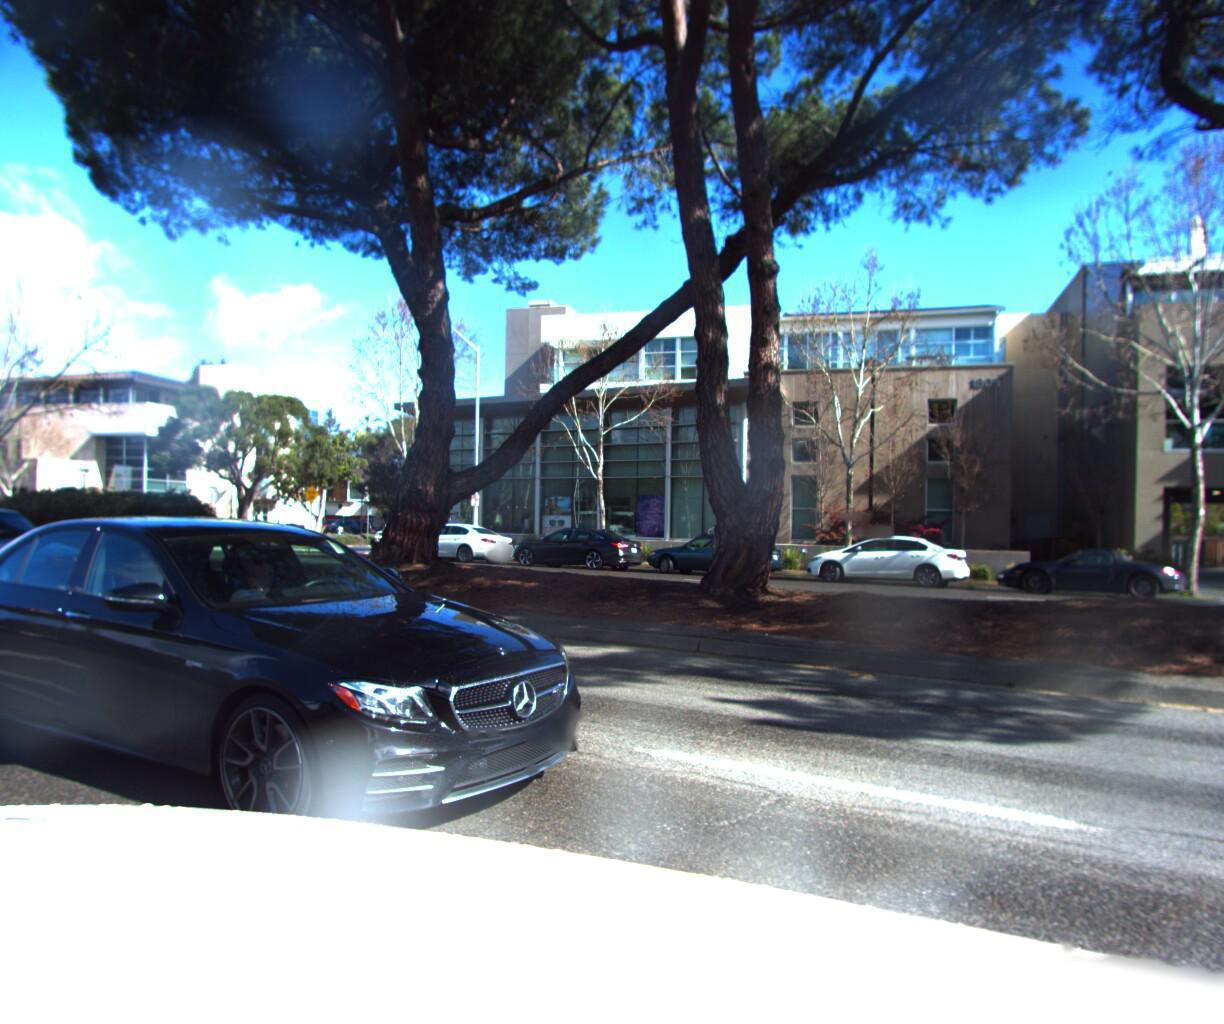car: (0, 520, 624, 907), (987, 541, 1190, 601), (0, 510, 108, 617), (794, 529, 978, 590), (638, 529, 791, 586), (503, 527, 654, 579), (388, 522, 521, 570)
